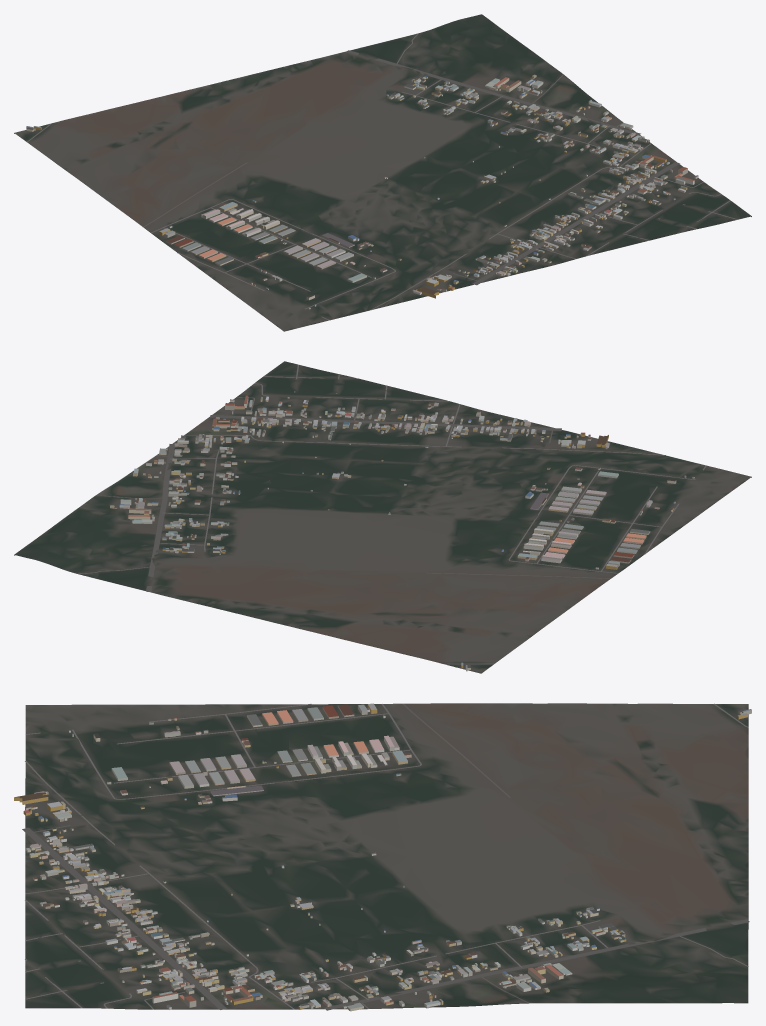
3 views of the same model, one above another, from view 1: azimuth 30°, elevation 25°; view 2: azimuth 150°, elevation 25°; view 3: azimuth 270°, elevation 25° (orthographic). The views are drawn at different scales.
Visible parts, largest first — view 1: ground, buildings, roads; view 2: ground, buildings, roads; view 3: ground, buildings, roads.
Boxes of the visible parts, x1=… form: ground: x1=14, y1=14, x2=751, y2=331; buildings: x1=26, y1=74, x2=698, y2=309; roads: x1=27, y1=33, x2=737, y2=320; ground: x1=14, y1=361, x2=751, y2=673; buildings: x1=110, y1=395, x2=694, y2=671; roads: x1=77, y1=364, x2=706, y2=664; ground: x1=25, y1=703, x2=748, y2=1009; buildings: x1=14, y1=703, x2=751, y2=1011; roads: x1=22, y1=703, x2=749, y2=1010.
Size of the model in its own units: 1409 by 19.1 by 1429.
